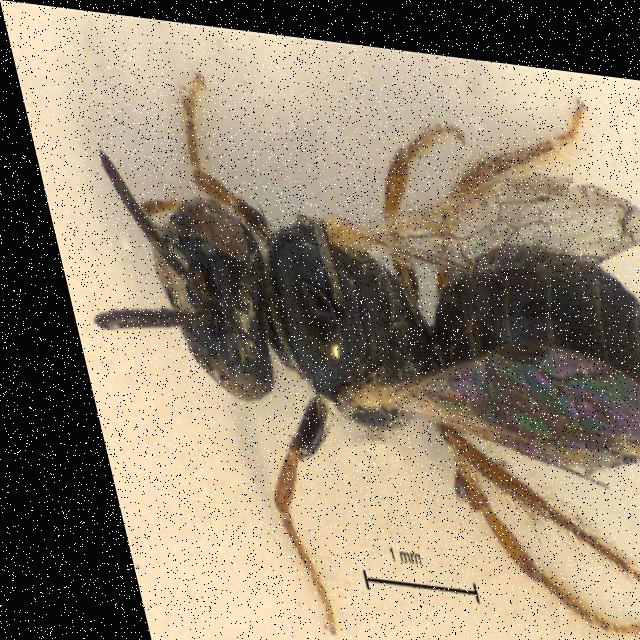Braunsapis: (72, 43, 640, 639)
